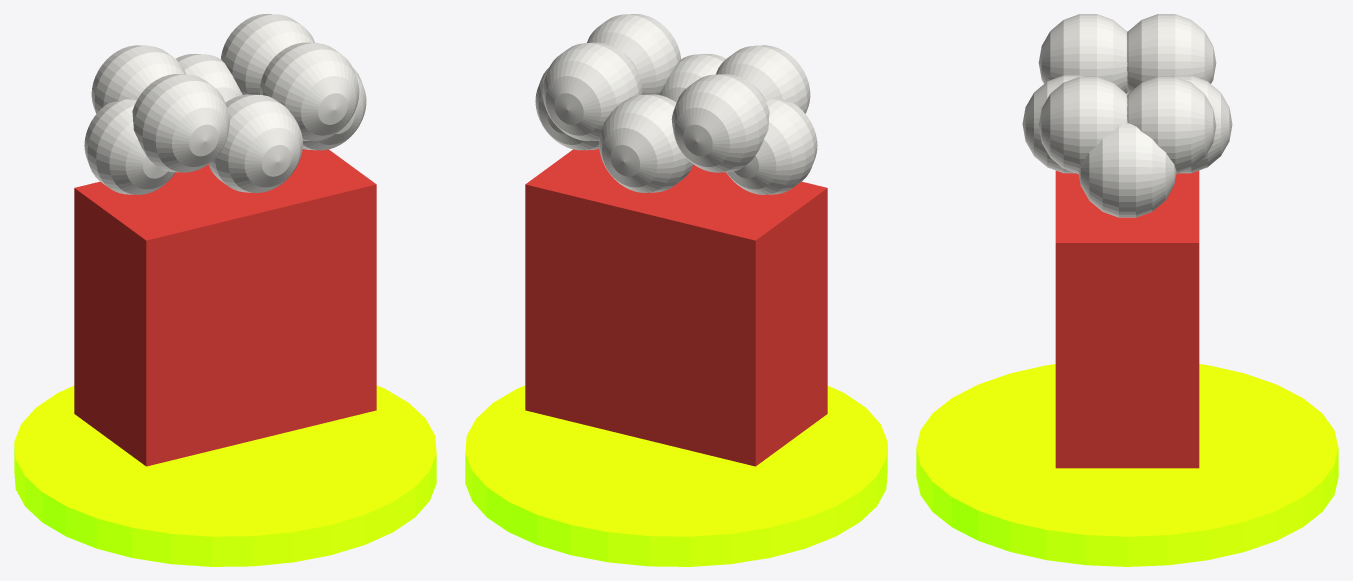
The model's file is food_popcorn.glb.
3 renders of one model, left to right at view 1: azimuth 30°, elevation 25°; view 2: azimuth 150°, elevation 25°; view 3: azimuth 270°, elevation 25°, orthographic.
Parts seen in each view (by area): view 1: 01_14_Popular_Food_Popcorn_part_01, 01_14_Popular_Food_Popcorn_ROOT_base, 01_14_Popular_Food_Popcorn_part_05, 01_14_Popular_Food_Popcorn_part_03, 01_14_Popular_Food_Popcorn_part_04, 01_14_Popular_Food_Popcorn_part_06, 01_14_Popular_Food_Popcorn_part_09, 01_14_Popular_Food_Popcorn_part_07, 01_14_Popular_Food_Popcorn_part_08, 01_14_Popular_Food_Popcorn_part_02; view 2: 01_14_Popular_Food_Popcorn_part_01, 01_14_Popular_Food_Popcorn_ROOT_base, 01_14_Popular_Food_Popcorn_part_07, 01_14_Popular_Food_Popcorn_part_09, 01_14_Popular_Food_Popcorn_part_08, 01_14_Popular_Food_Popcorn_part_06, 01_14_Popular_Food_Popcorn_part_03, 01_14_Popular_Food_Popcorn_part_05, 01_14_Popular_Food_Popcorn_part_04, 01_14_Popular_Food_Popcorn_part_02; view 3: 01_14_Popular_Food_Popcorn_ROOT_base, 01_14_Popular_Food_Popcorn_part_01, 01_14_Popular_Food_Popcorn_part_02, 01_14_Popular_Food_Popcorn_part_03, 01_14_Popular_Food_Popcorn_part_09, 01_14_Popular_Food_Popcorn_part_05, 01_14_Popular_Food_Popcorn_part_07, 01_14_Popular_Food_Popcorn_part_04, 01_14_Popular_Food_Popcorn_part_08.
Part boxes in pixels (x1,y1,x2,y2): 01_14_Popular_Food_Popcorn_part_01: (74,149,376,466); 01_14_Popular_Food_Popcorn_ROOT_base: (14,385,436,566); 01_14_Popular_Food_Popcorn_part_05: (132,74,230,172); 01_14_Popular_Food_Popcorn_part_03: (259,42,359,140); 01_14_Popular_Food_Popcorn_part_04: (208,94,302,192); 01_14_Popular_Food_Popcorn_part_06: (84,99,175,194); 01_14_Popular_Food_Popcorn_part_09: (221,14,314,94); 01_14_Popular_Food_Popcorn_part_07: (91,45,185,113); 01_14_Popular_Food_Popcorn_part_08: (176,54,242,102); 01_14_Popular_Food_Popcorn_part_02: (302,67,366,150); 01_14_Popular_Food_Popcorn_part_01: (525,149,827,466); 01_14_Popular_Food_Popcorn_ROOT_base: (465,385,887,566); 01_14_Popular_Food_Popcorn_part_07: (671,74,769,172); 01_14_Popular_Food_Popcorn_part_09: (542,42,642,140); 01_14_Popular_Food_Popcorn_part_08: (599,94,693,192); 01_14_Popular_Food_Popcorn_part_06: (726,99,817,194); 01_14_Popular_Food_Popcorn_part_03: (587,14,680,94); 01_14_Popular_Food_Popcorn_part_05: (716,45,810,113); 01_14_Popular_Food_Popcorn_part_04: (659,54,725,102); 01_14_Popular_Food_Popcorn_part_02: (535,67,599,150); 01_14_Popular_Food_Popcorn_ROOT_base: (916,364,1338,566); 01_14_Popular_Food_Popcorn_part_01: (1055,170,1199,468); 01_14_Popular_Food_Popcorn_part_02: (1078,123,1176,217); 01_14_Popular_Food_Popcorn_part_03: (1038,76,1127,173); 01_14_Popular_Food_Popcorn_part_09: (1127,76,1216,173); 01_14_Popular_Food_Popcorn_part_05: (1038,14,1127,93); 01_14_Popular_Food_Popcorn_part_07: (1127,14,1216,93); 01_14_Popular_Food_Popcorn_part_04: (1022,75,1083,173); 01_14_Popular_Food_Popcorn_part_08: (1171,75,1232,173).
Size of the model in its own units: 0.76 by 0.85 by 0.76.
